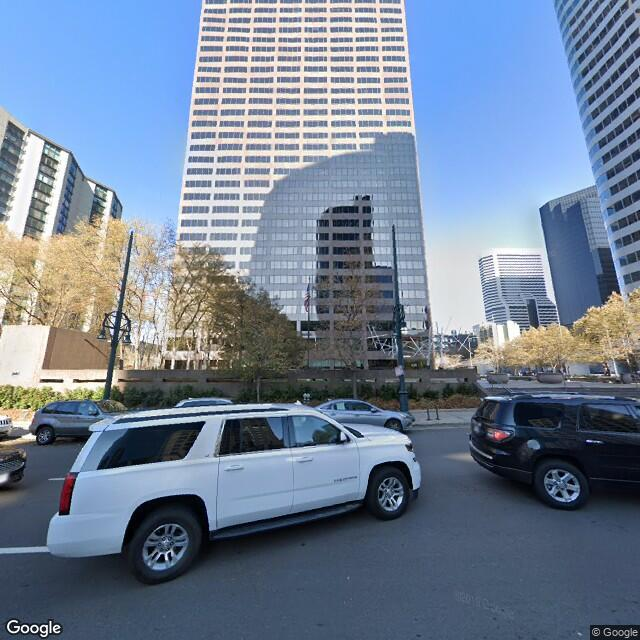lamp: (101, 227, 136, 403)
